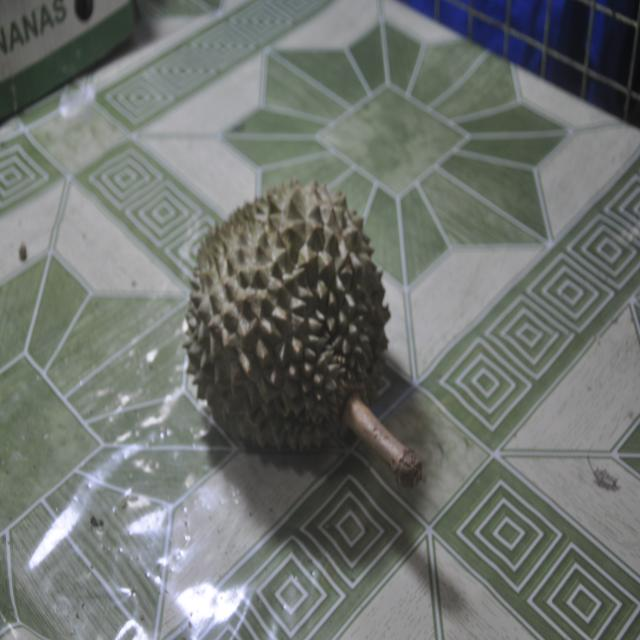mature: (185, 182, 421, 487)
